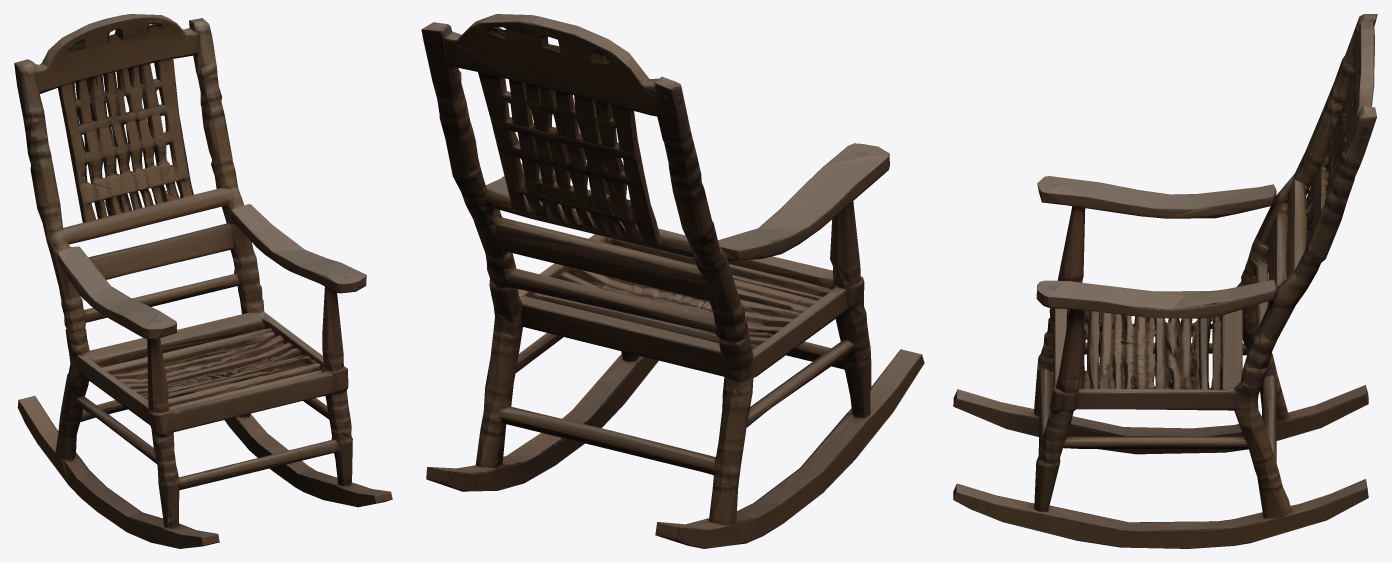
The model's file is chair.glb.
3 views of the same model, side by side, from view 1: azimuth 30°, elevation 25°; view 2: azimuth 150°, elevation 25°; view 3: azimuth 270°, elevation 25° (orthographic). The views are drawn at different scales.
Parts seen in each view (by area): view 1: geometry_0; view 2: geometry_0; view 3: geometry_0.
Boxes of the visible parts, bbox=[...] form: geometry_0: bbox=[14, 14, 392, 548]; geometry_0: bbox=[421, 14, 924, 548]; geometry_0: bbox=[953, 14, 1377, 548].
Size of the model in its own units: 0.5654 by 0.9996 by 0.8372.
Materials: 1 (1 with a texture image).
